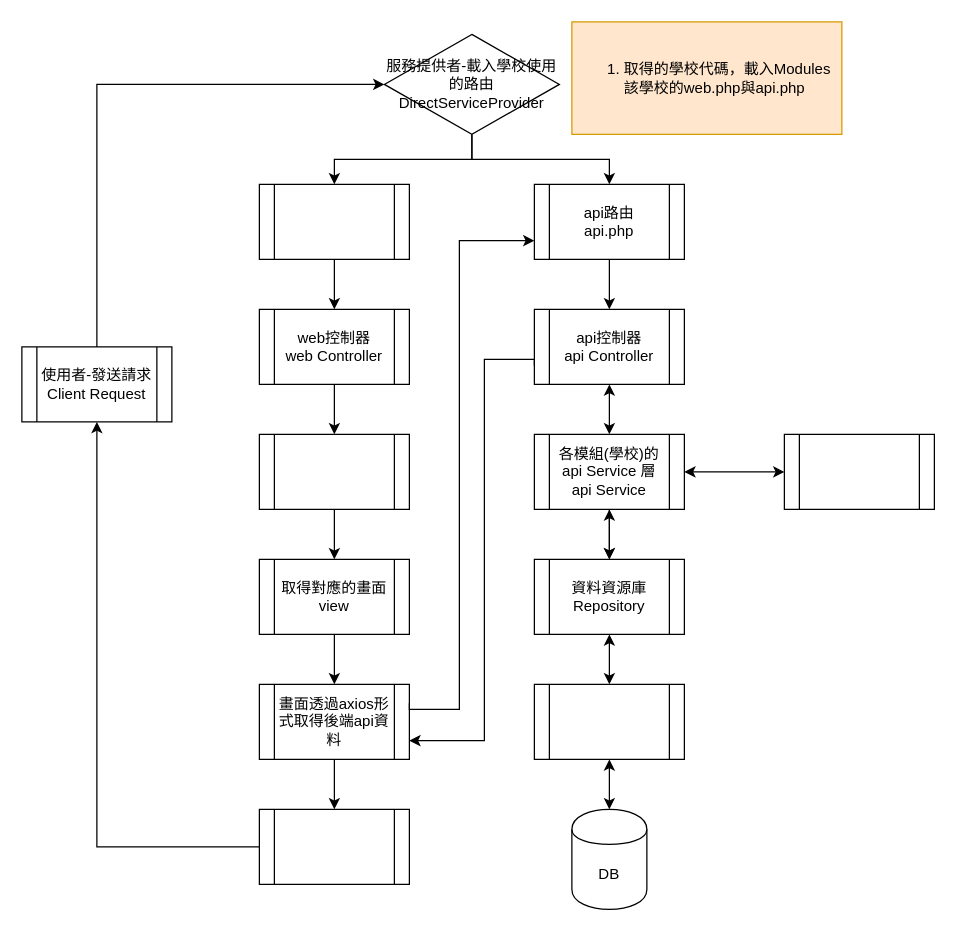
This 956x931 diagram has some shape labels left out. Here are the shapes that lost their labels. From the top down, the centre of each, then its label:
the point at 333,221: web路由 web.php
the point at 333,471: 各模組(學校)的web Service 層 web Service
the point at 858,471: 處理需回傳給view的資料格式 Resource 層
the point at 608,721: 資料模型 Model
the point at 333,846: 使用取得的資料渲染畫面 render view
